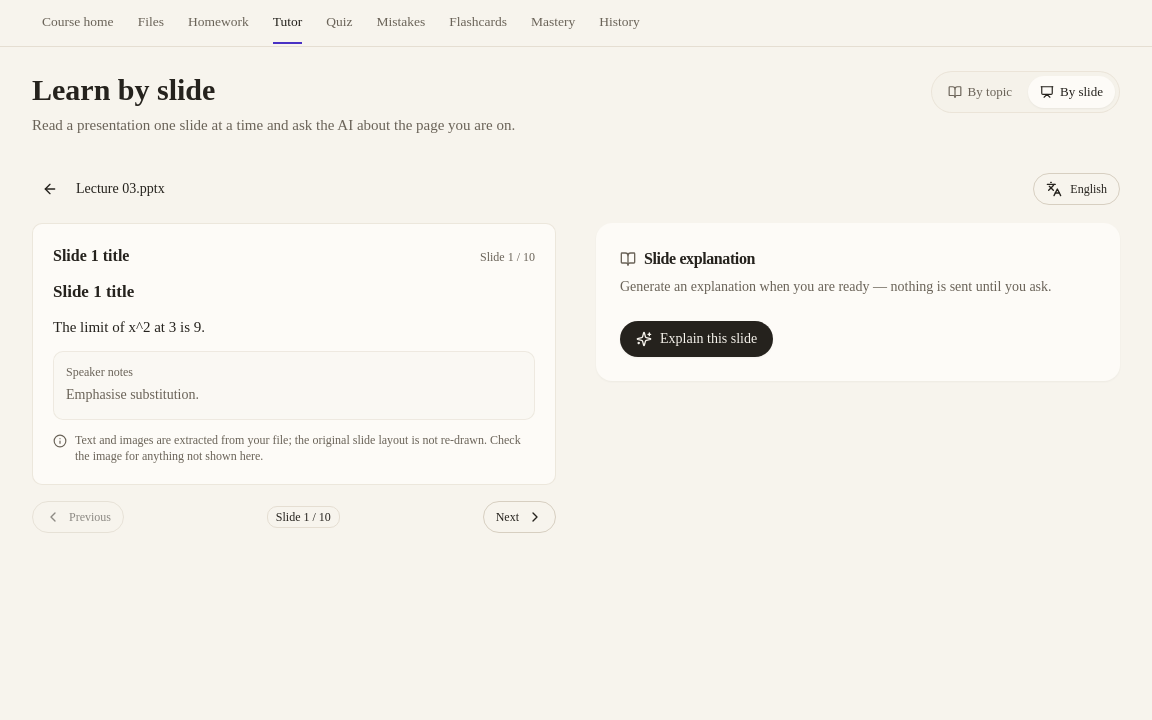
Test: SlideStudyPage › shows the current slide and only generates when asked
Expected: the heading "Slide 1 title" is shown, [53, 244, 129, 268]
Expected: the text "The limit of x^2 at 3 is 9." is shown, [53, 319, 205, 335]
Click the button "Explain this slide" at (697, 338), box [620, 320, 773, 356]
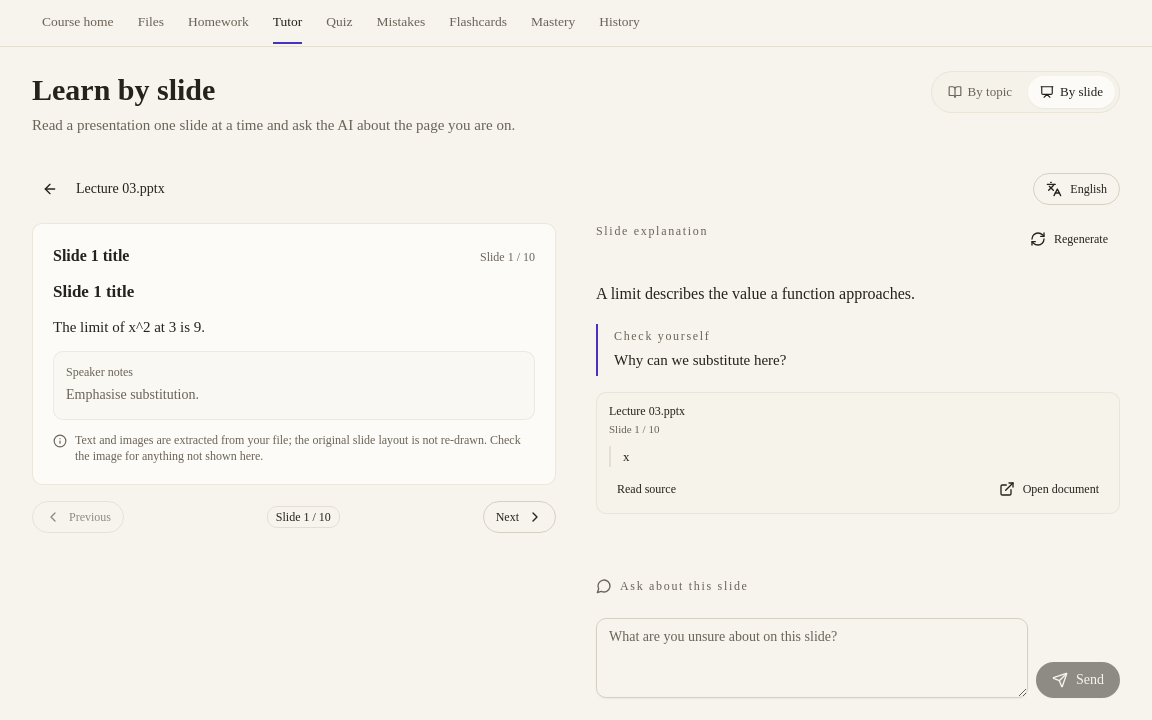
Now the text "A limit describes the value a function approaches." is shown, box [596, 284, 915, 302]
Now the text "Why can we substitute here?" is shown, box [614, 352, 786, 368]
